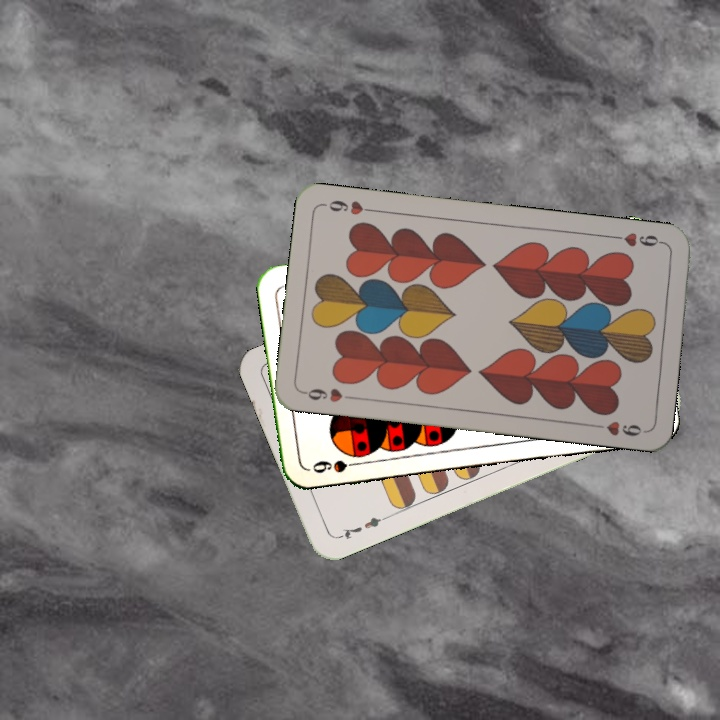E7: (334, 512, 390, 542)
H9: (608, 228, 667, 250), (299, 384, 358, 405)
S9: (308, 455, 366, 476)
